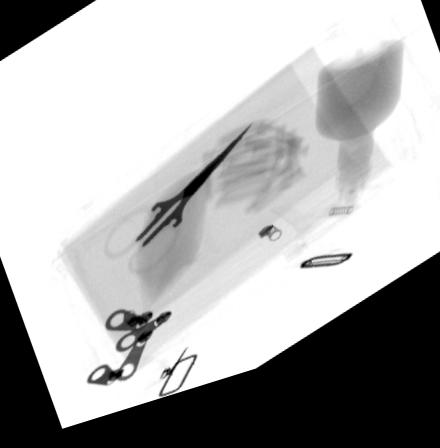Scissors: (101, 138, 252, 286)
